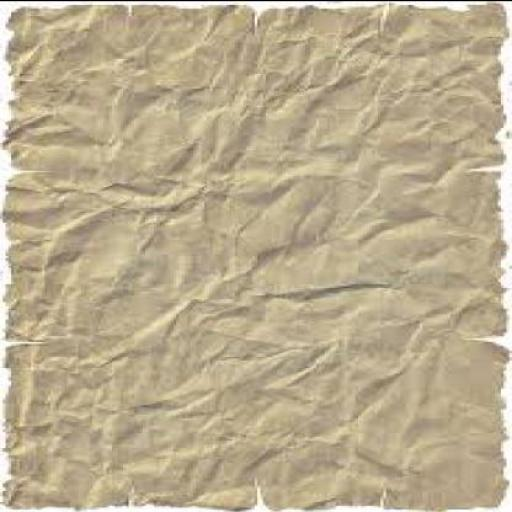paper: (2, 1, 508, 507)
